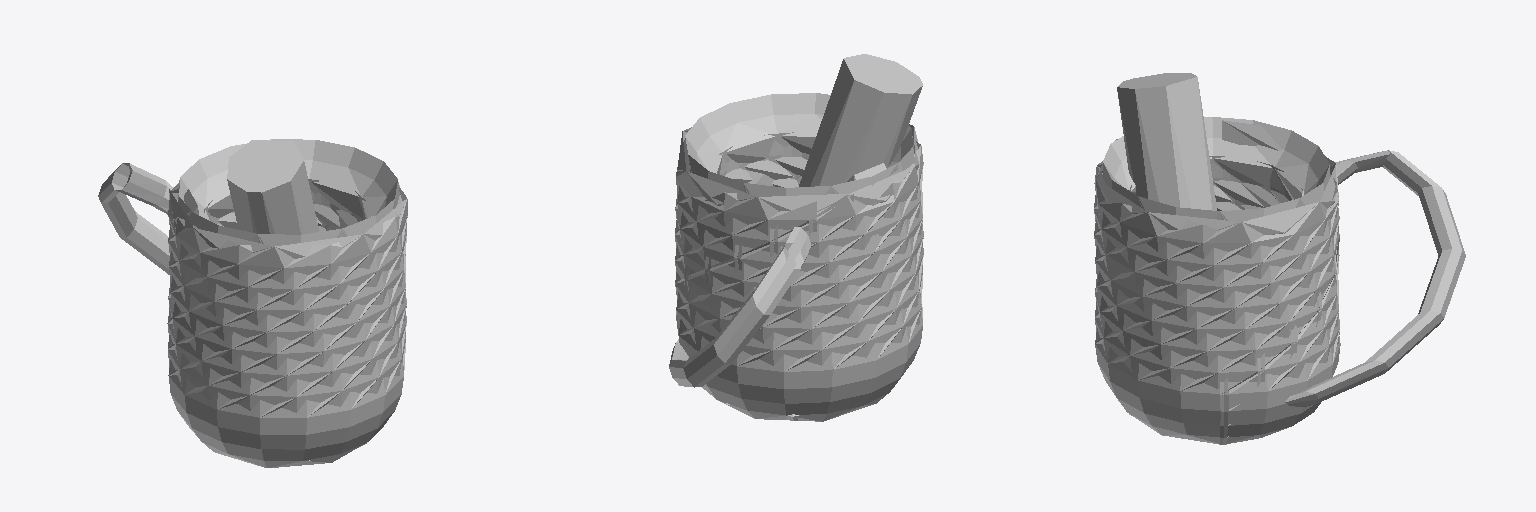
Rendered from Basket_Final.obj.
3 views of the same model, side by side, from view 1: azimuth 30°, elevation 25°; view 2: azimuth 150°, elevation 25°; view 3: azimuth 270°, elevation 25° (orthographic).
Parts seen in each view (by area): view 1: Cube_Cube.001; view 2: Cube_Cube.001; view 3: Cube_Cube.001.
Part boxes in pixels (x1,y1,x2,y2): Cube_Cube.001: (98,139,407,467); Cube_Cube.001: (669,54,923,421); Cube_Cube.001: (1094,73,1465,444).
Size of the model in its own units: 0.514 by 0.7461 by 0.7826.